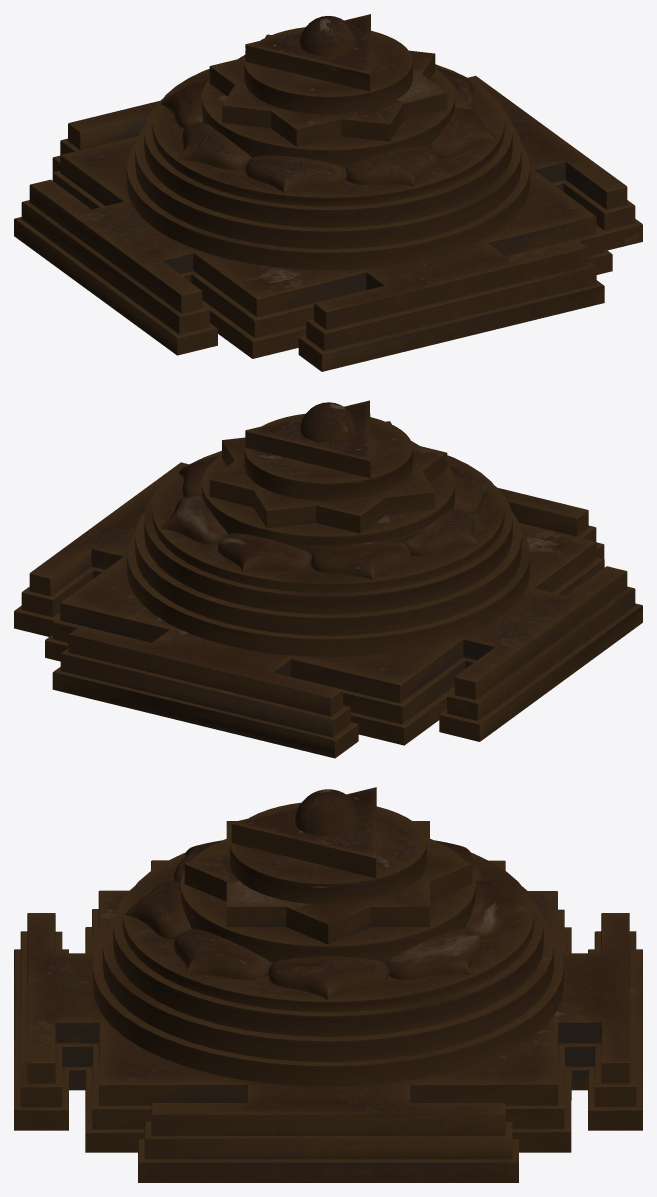
File: Pratyangira Yantra Copper.fbx
3 views of the same model, one above another, from view 1: azimuth 30°, elevation 25°; view 2: azimuth 150°, elevation 25°; view 3: azimuth 270°, elevation 25° (orthographic). The views are drawn at different scales.
Parts seen in each view (by area): view 1: Object001; view 2: Object001; view 3: Object001.
Part boxes in pixels (box(x1,y1,x2,y2)): Object001: box(14, 14, 642, 371); Object001: box(14, 400, 642, 758); Object001: box(14, 787, 642, 1182).
Bounding box in the file's own units: 661 × 299 × 661.
1 material, 1 textured.
